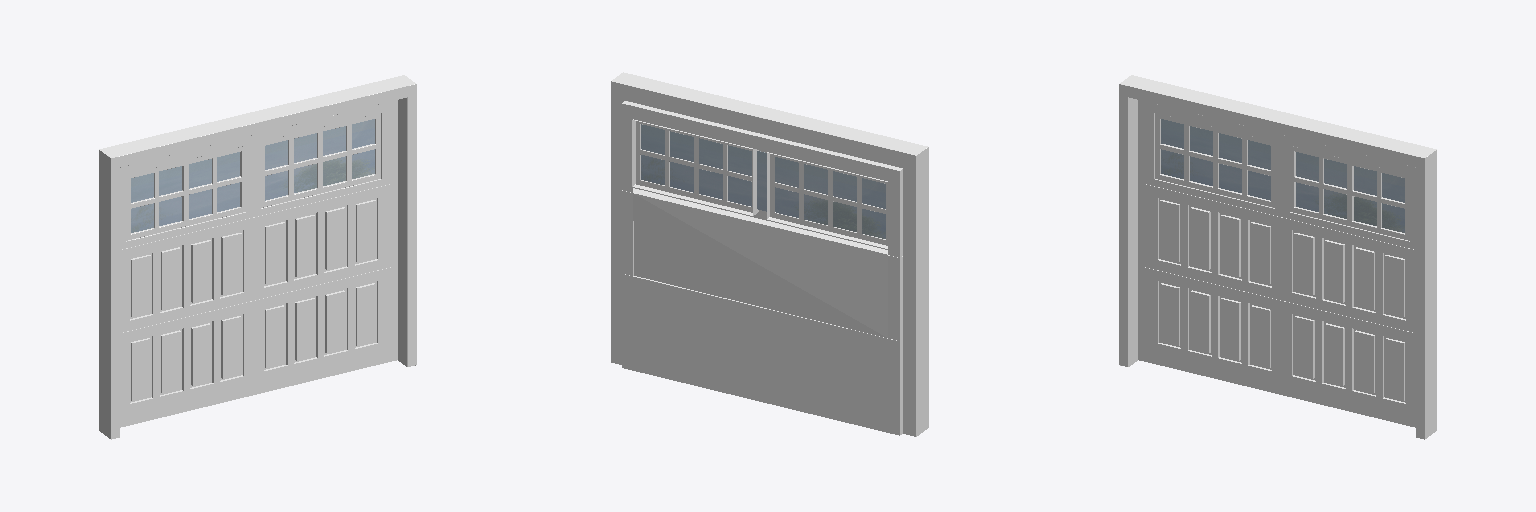
3 views of the same model, side by side, from view 1: azimuth 30°, elevation 25°; view 2: azimuth 150°, elevation 25°; view 3: azimuth 330°, elevation 25° (orthographic).
Parts seen in each view (by area): view 1: door, trim, glass, windows; view 2: door, trim, glass, windows; view 3: door, trim, glass, windows.
Boxes of the visible parts, x1,y1,x2,y2 form: door: [120, 101, 392, 427]; trim: [99, 75, 416, 439]; glass: [131, 119, 374, 232]; windows: [126, 113, 380, 240]; door: [622, 101, 902, 435]; trim: [611, 72, 928, 436]; glass: [641, 124, 885, 238]; windows: [636, 121, 887, 245]; door: [1143, 101, 1415, 427]; trim: [1119, 75, 1436, 439]; glass: [1161, 119, 1404, 232]; windows: [1155, 113, 1409, 240].
Bounding box in the file's own units: 95.52 × 84 × 8.66.
Materials: 3 (1 with a texture image).